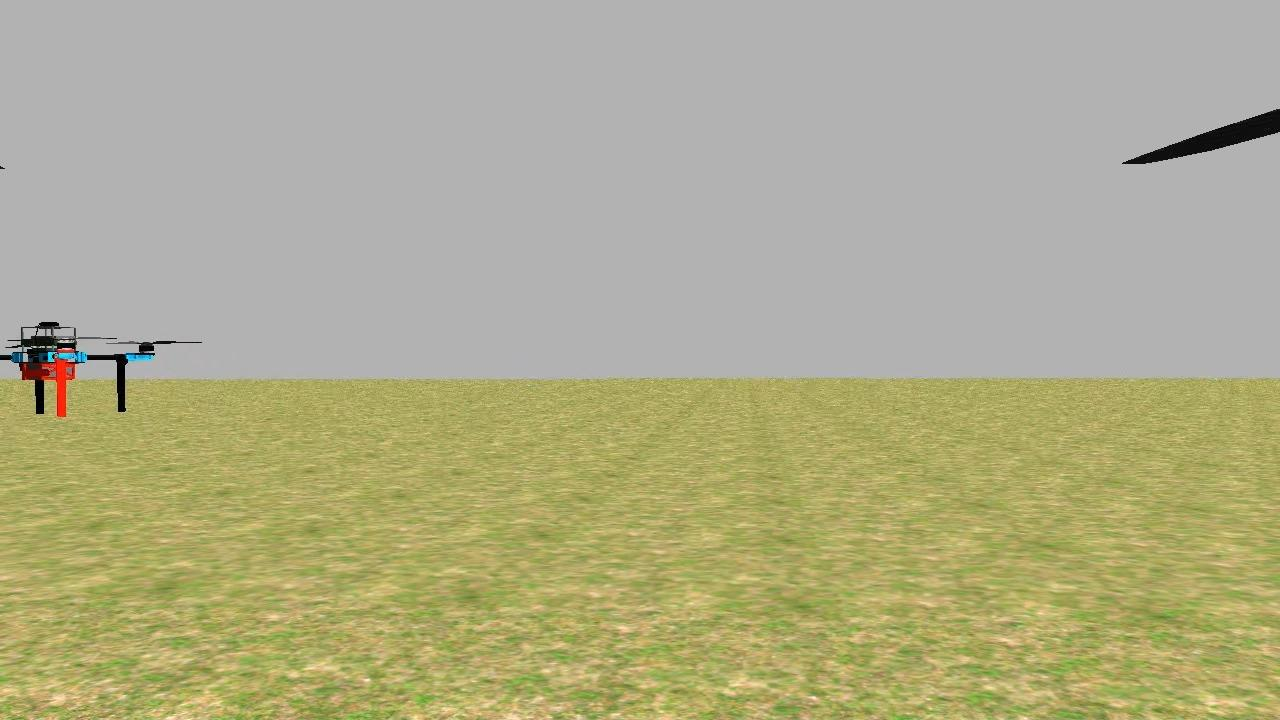UAV: (0, 308, 163, 423)
